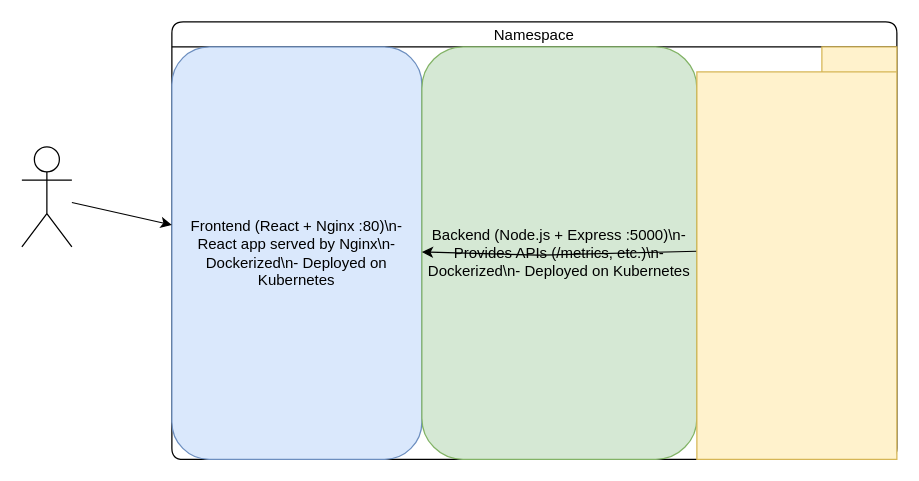
Image size: 919x481. Some labels were removed from this diagram. Here are the shapes that lost their labels. From the top down, the centre of each, then its label:
point (46, 196): User
point (796, 252): ConfigMap\n- Holds configs (API URL, etc.)
